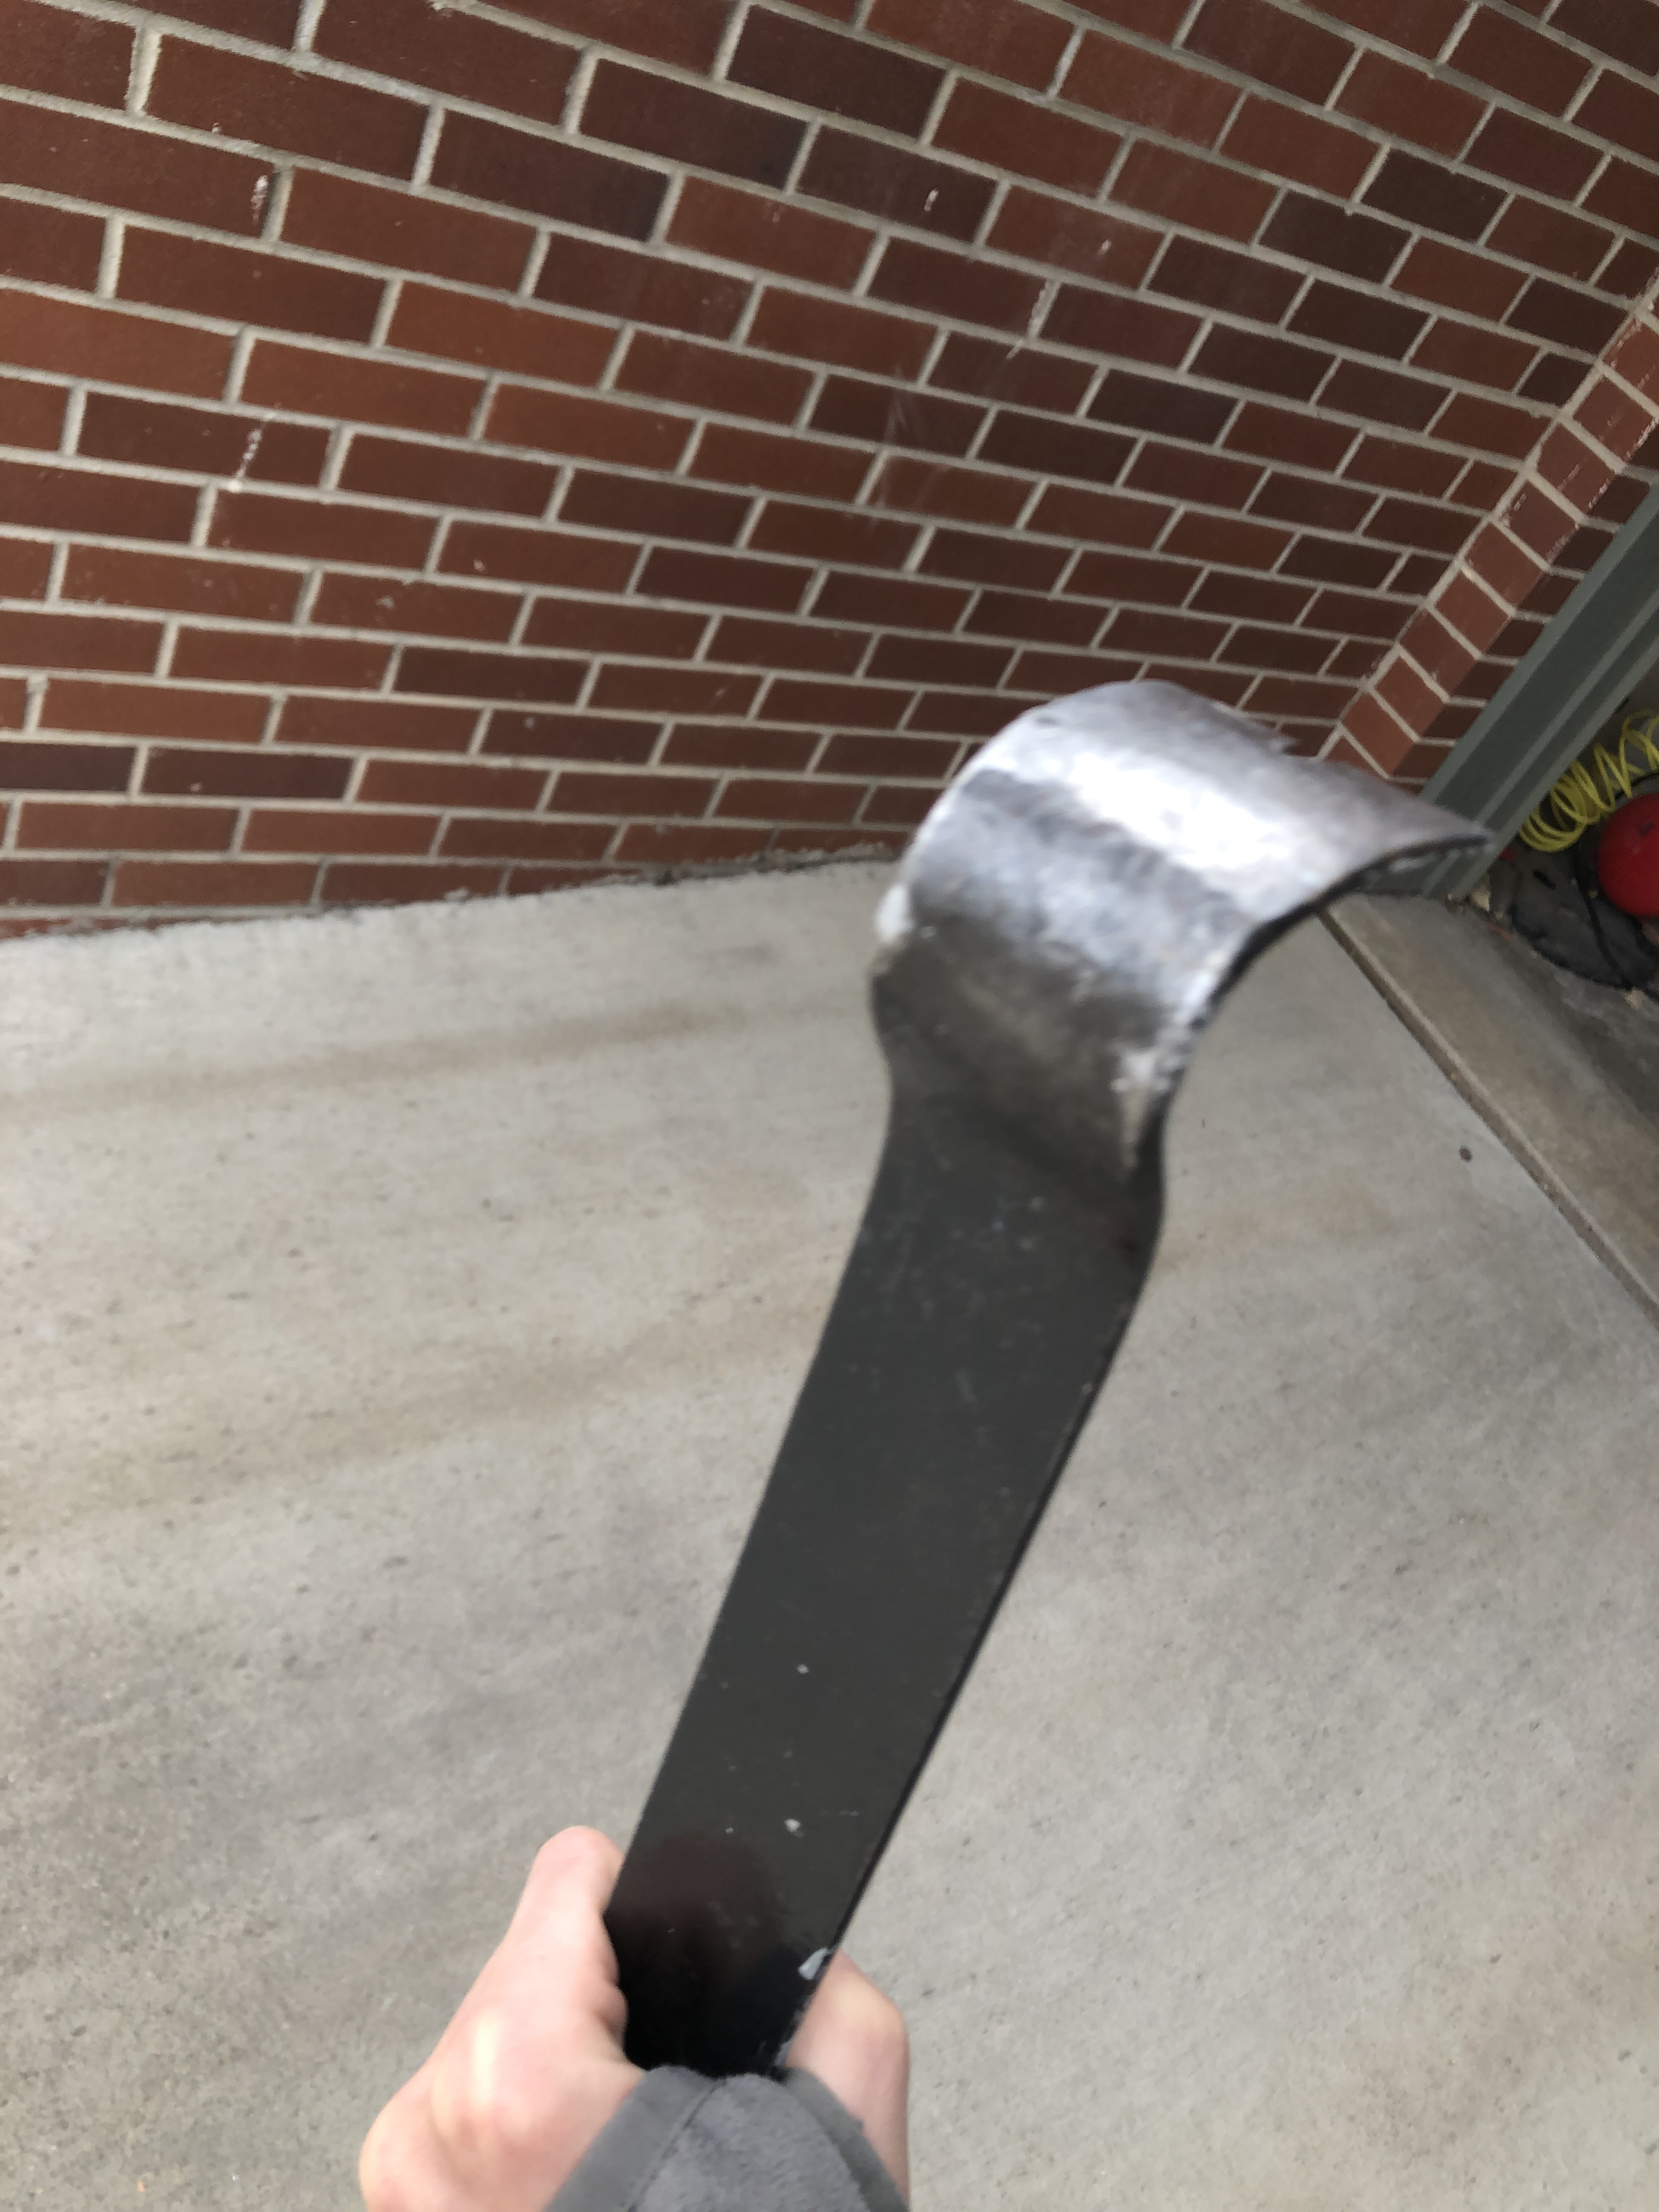crowbar: (645, 611, 1537, 2137)
